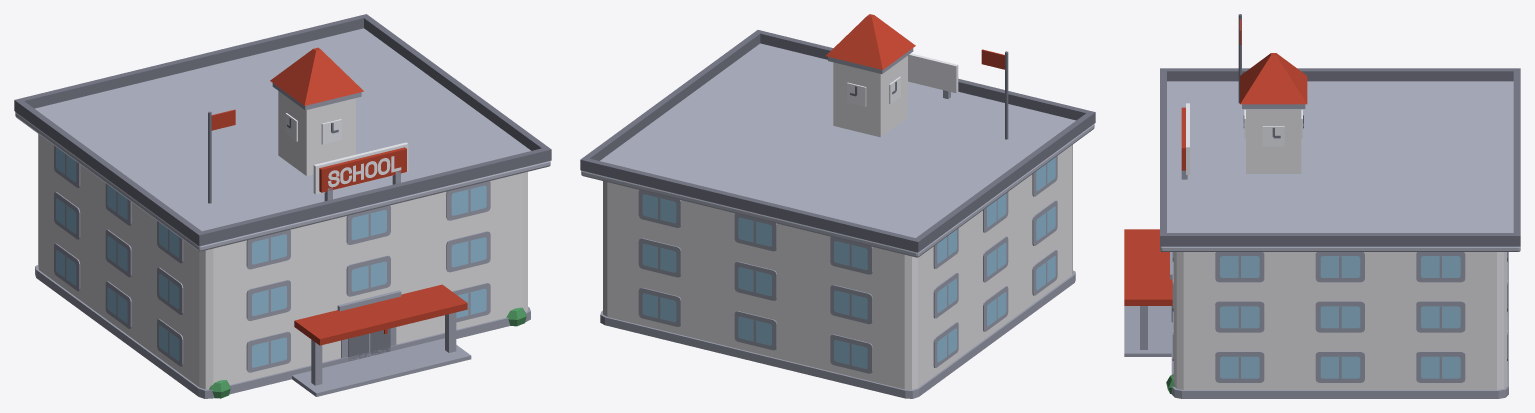
Rendered from school-2x2-3f.glb.
3 views of the same model, side by side, from view 1: azimuth 30°, elevation 25°; view 2: azimuth 150°, elevation 25°; view 3: azimuth 270°, elevation 25° (orthographic). The views are drawn at different scales.
Visible parts, largest first — view 1: school-2x2-3f; view 2: school-2x2-3f; view 3: school-2x2-3f.
Boxes of the visible parts, x1,y1,x2,y2 form: school-2x2-3f: [14, 14, 551, 398]; school-2x2-3f: [580, 14, 1095, 398]; school-2x2-3f: [1124, 14, 1520, 398].
Size of the model in its own units: 2 by 1.48 by 2.
1 material, 1 textured.
